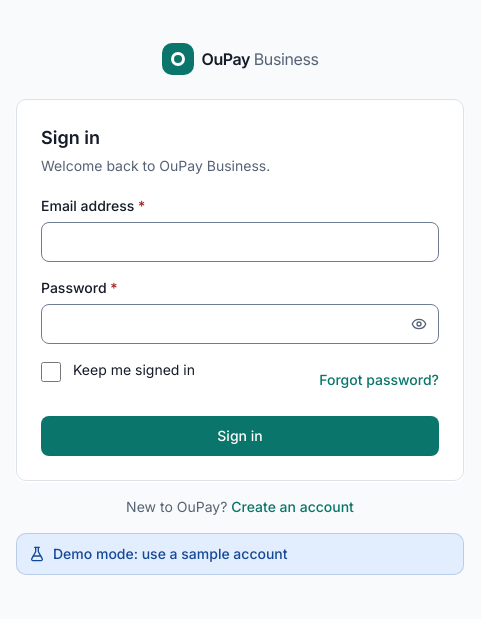
it: login › shows the service error when sign-in is unavailable
Type "outage@oupay.demo" into the field labelled "Email address *" at (240, 242), box [41,222,439,262]
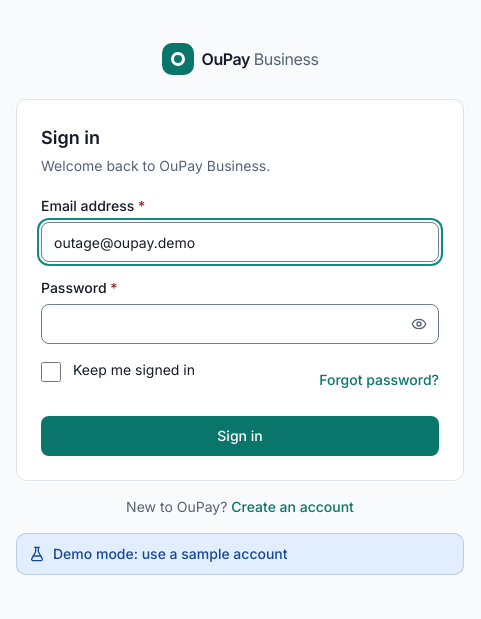
Type "DemoPass123!" into the password field labelled "Password *" at (240, 324), box [41,304,439,344]
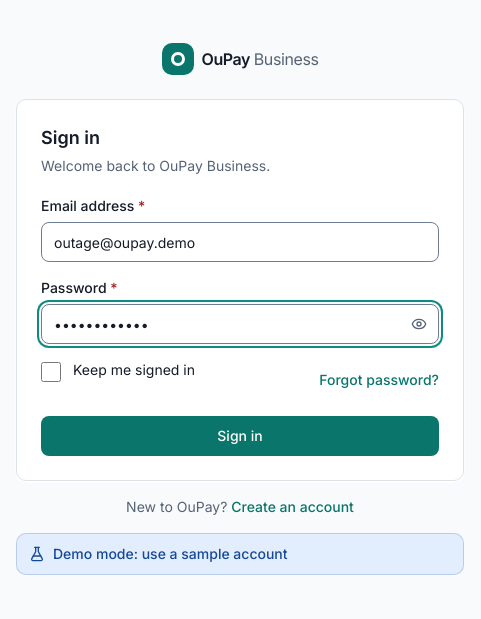
Click the button "Sign in" at (240, 436), box [41,416,439,456]
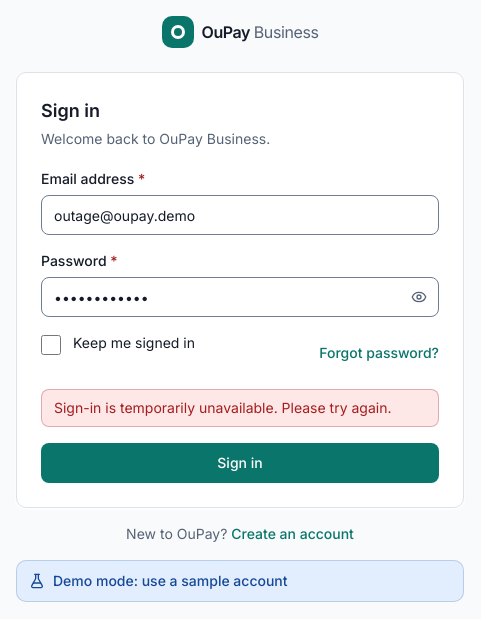
Now the message shows "temporarily unavailable", box [54,399,392,416]
